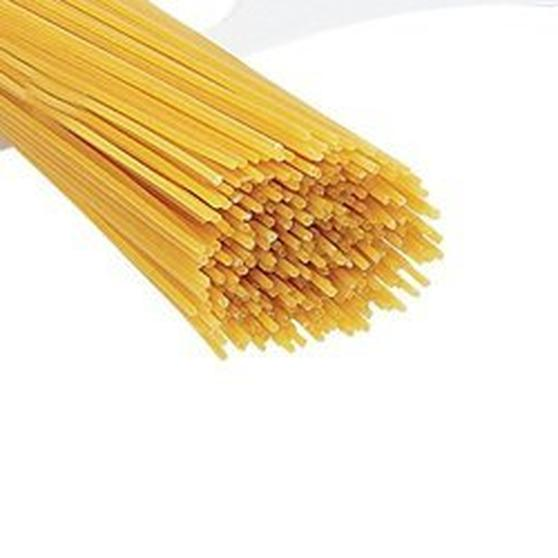spaghetti: (1, 1, 448, 357)
